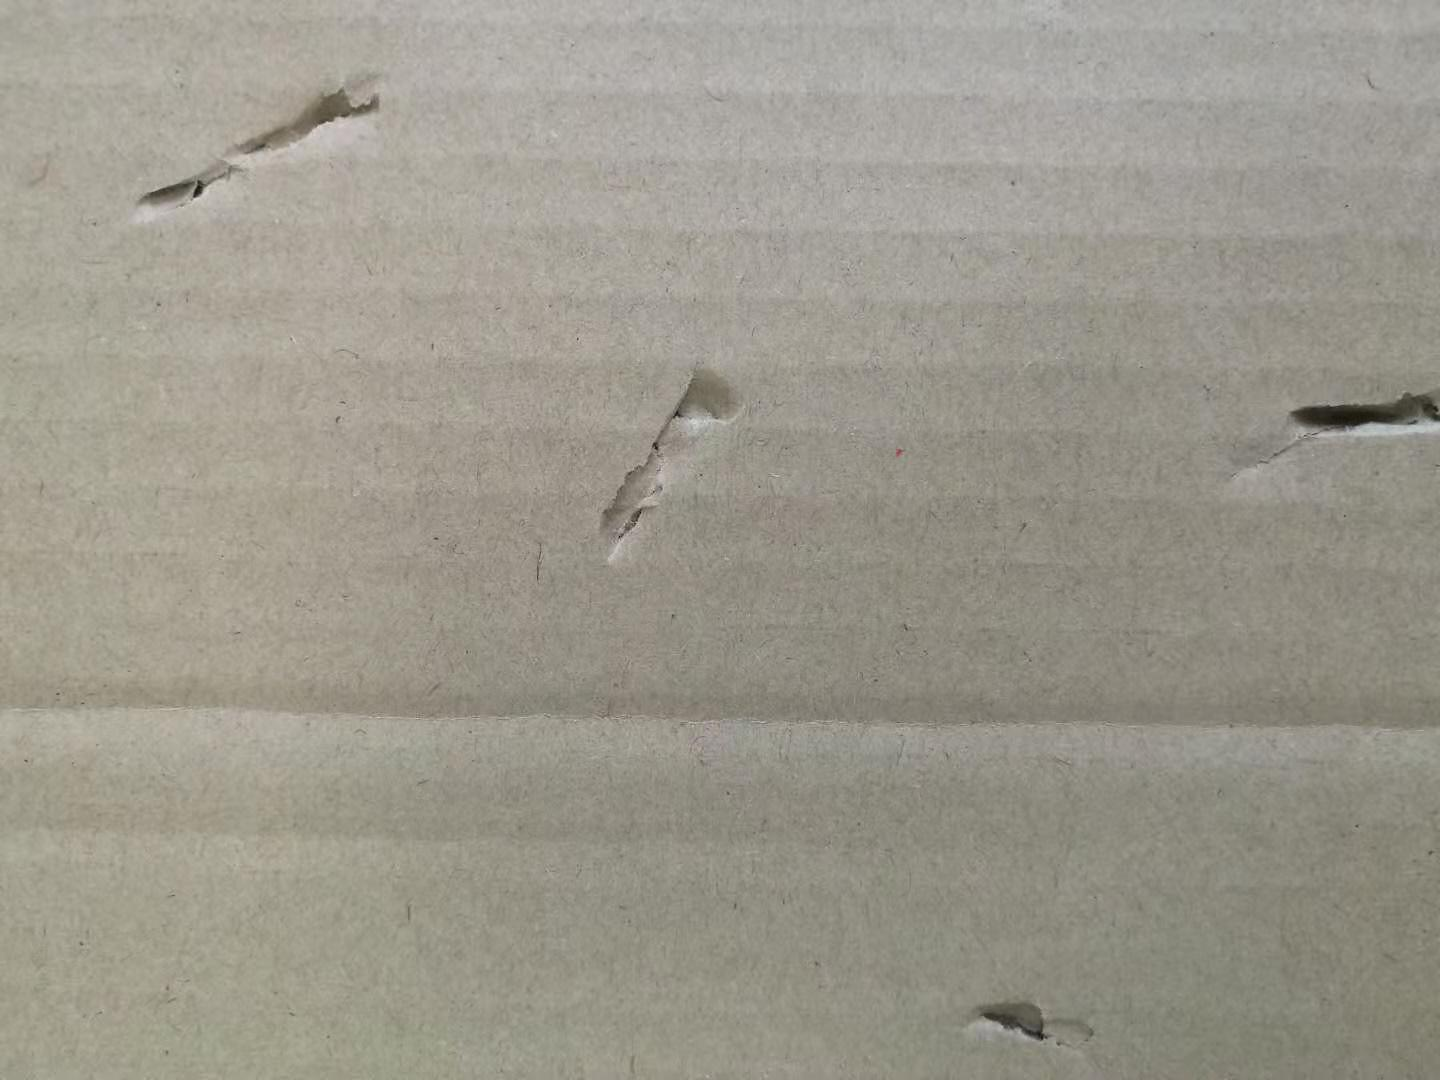defect: (1, 640, 1440, 785), (100, 47, 424, 242), (562, 338, 781, 572), (1198, 354, 1440, 509), (927, 967, 1127, 1080)
